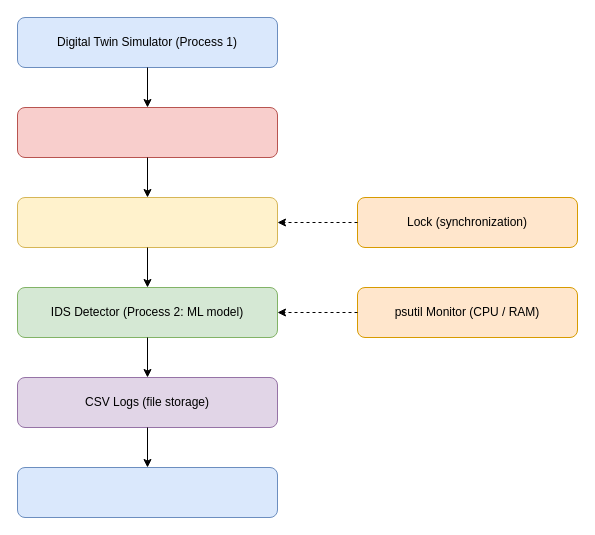
Image size: 595x535. Some labels were removed from this diagram. Each missing label, with the centre of its shape:
Attack Injector (NMM, CMM, CI): the point at 147,132
Plots / Results: the point at 147,492
Queue (IPC): the point at 147,222
